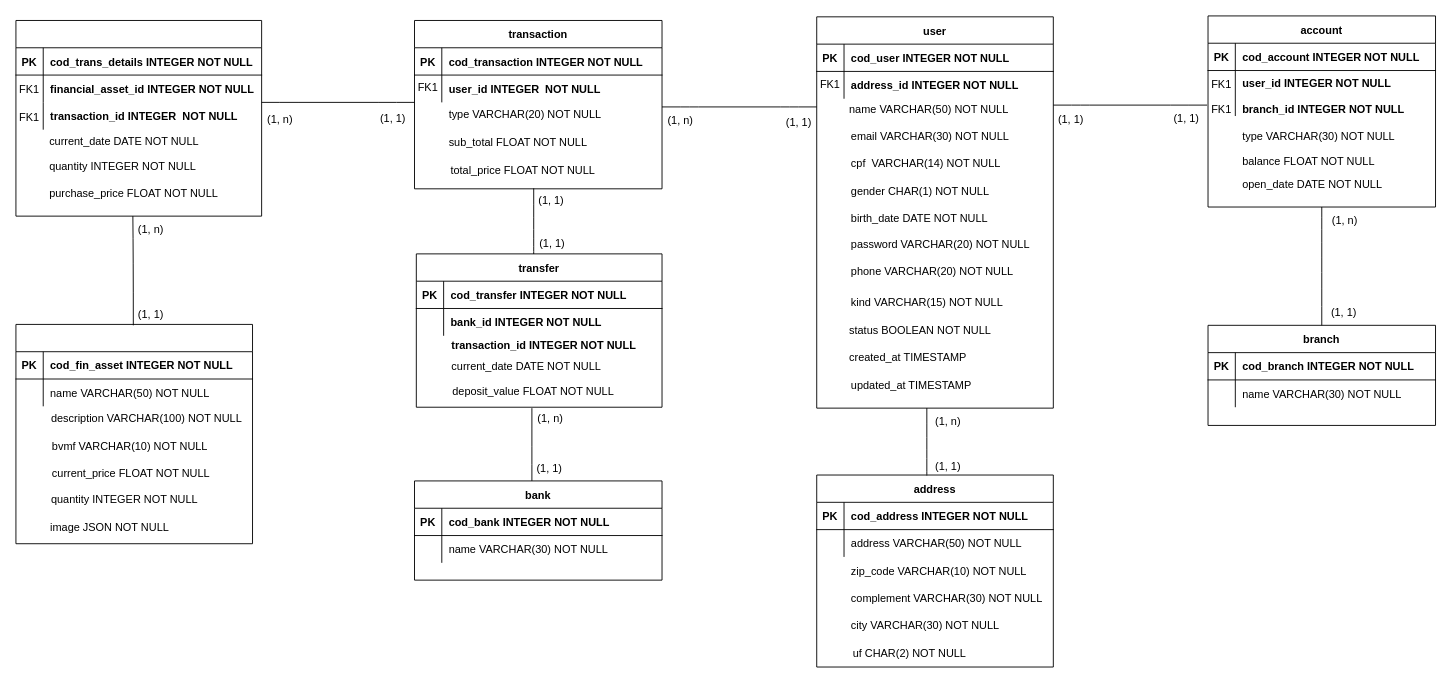
Image size: 1451x683. Some labels were removed from this diagram. The box of each missing label's shape, as (x1, y1, x2, y2) in pixels:
financial_asset_catalog: (15, 324, 253, 544)
transaction_details: (15, 20, 262, 216)
